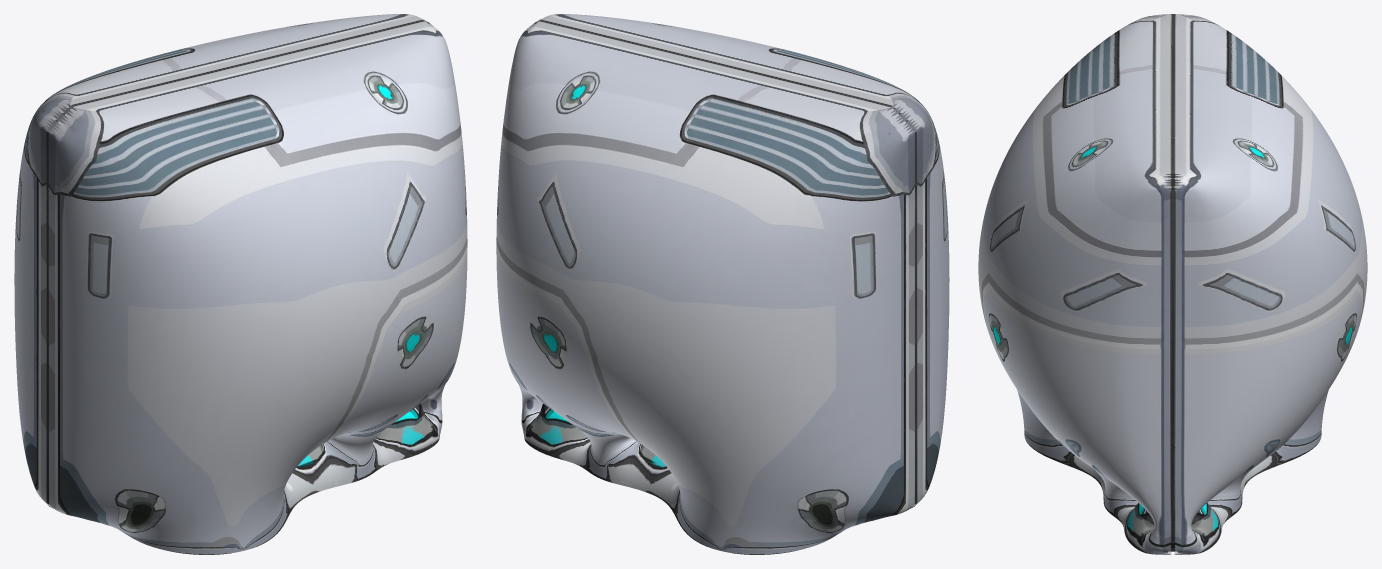
The model's file is rear_wall_wing.glb.
3 renders of one model, left to right at view 1: azimuth 30°, elevation 25°; view 2: azimuth 150°, elevation 25°; view 3: azimuth 270°, elevation 25°, orthographic. The views are drawn at different scales.
Parts seen in each view (by area): view 1: rear_wall_wing; view 2: rear_wall_wing; view 3: rear_wall_wing.
Part boxes in pixels (left/top/right/bottom): rear_wall_wing: left=14, top=14, right=467, bottom=554; rear_wall_wing: left=496, top=14, right=949, bottom=554; rear_wall_wing: left=978, top=14, right=1367, bottom=554.
Size of the model in its own units: 0.989 by 0.9943 by 0.9239.
1 material, 1 textured.
